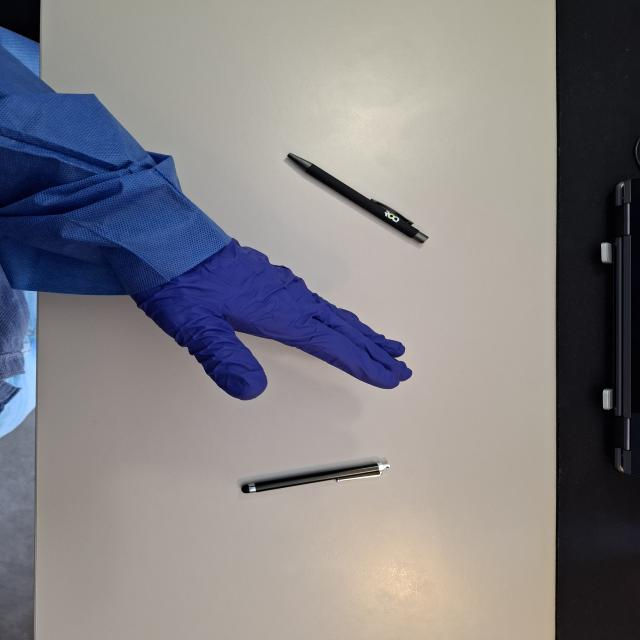glove_on: (117, 230, 417, 403)
